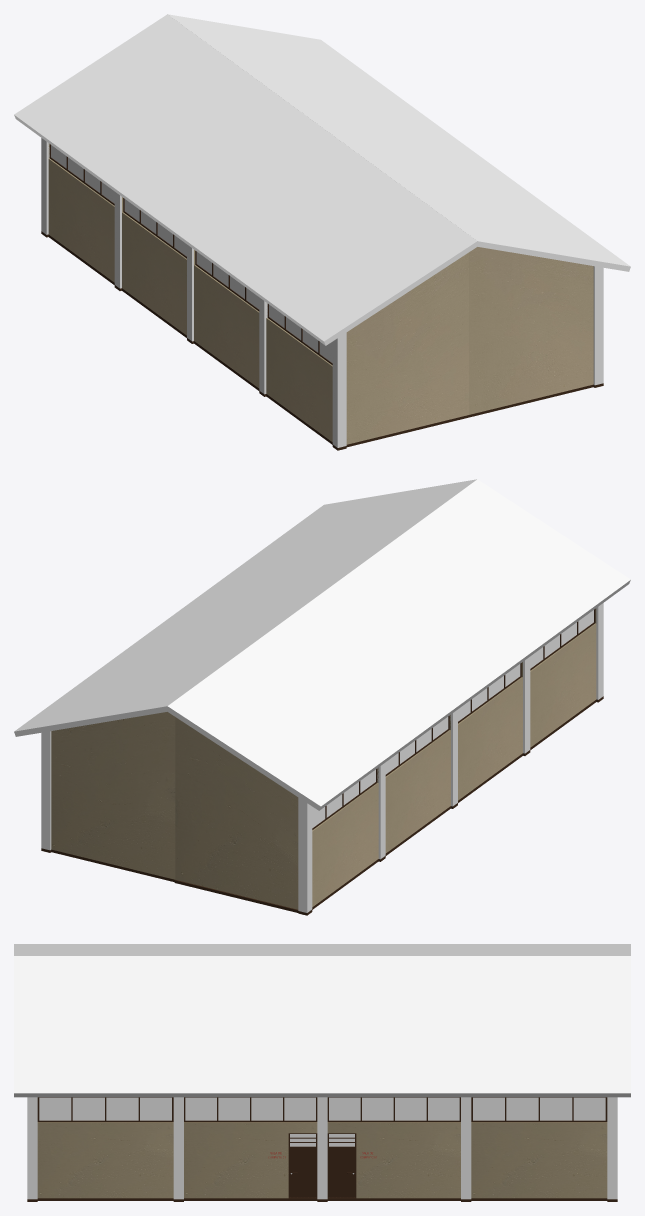
Rendered from sala1y2.fbx.
3 views of the same model, one above another, from view 1: azimuth 30°, elevation 25°; view 2: azimuth 150°, elevation 25°; view 3: azimuth 270°, elevation 25° (orthographic).
Visible parts, largest first — view 1: Pilar.022, Pilar.023, Pared.009, Pared.010, Pared.005, Pared.008, Pared.007, Pared.006, Pilar.004, Pilar.002, Pared.021, Pared.024 (+6 smaller); view 2: Pilar.022, Pilar.023, Pared.012, Pared.011, Pared.005, Pared.008, Pared.006, Pared.007, Pilar.005, Pilar.003, Pared.024, Pared.021 (+6 smaller); view 3: Pilar.023, Pared.003, Pared.004, Pared.001, Pared.002, Pilar.022, Pared.013, Pared.014, Pared.017, Pared.016, Pared.038, Pared.047 (+9 smaller).
Part boxes in pixels (bbox=[...]): Pilar.022: bbox=[14, 14, 478, 345]; Pilar.023: bbox=[168, 14, 630, 271]; Pared.009: bbox=[469, 247, 593, 414]; Pared.010: bbox=[346, 252, 469, 444]; Pared.005: bbox=[48, 143, 114, 282]; Pared.008: bbox=[266, 318, 332, 441]; Pared.007: bbox=[194, 250, 259, 388]; Pared.006: bbox=[122, 197, 186, 335]; Pilar.004: bbox=[332, 332, 346, 447]; Pilar.002: bbox=[593, 266, 603, 385]; Pared.021: bbox=[267, 304, 332, 364]; Pared.024: bbox=[49, 144, 114, 205]; Pilar.022: bbox=[166, 479, 630, 810]; Pilar.023: bbox=[14, 479, 476, 736]; Pared.012: bbox=[51, 712, 175, 879]; Pared.011: bbox=[175, 717, 298, 909]; Pared.005: bbox=[312, 767, 378, 906]; Pared.008: bbox=[530, 608, 596, 747]; Pared.006: bbox=[385, 715, 450, 853]; Pared.007: bbox=[458, 662, 522, 800]; Pilar.005: bbox=[298, 797, 312, 912]; Pilar.003: bbox=[41, 731, 51, 850]; Pared.024: bbox=[312, 769, 377, 829]; Pared.021: bbox=[530, 609, 595, 670]; Pilar.023: bbox=[14, 956, 630, 1097]; Pared.003: bbox=[37, 1122, 173, 1198]; Pared.004: bbox=[471, 1122, 607, 1198]; Pared.001: bbox=[327, 1122, 460, 1198]; Pared.002: bbox=[184, 1122, 317, 1198]; Pilar.022: bbox=[14, 944, 630, 955]; Pared.013: bbox=[37, 1097, 173, 1122]; Pared.014: bbox=[471, 1097, 607, 1122]; Pared.017: bbox=[184, 1097, 317, 1122]; Pared.016: bbox=[327, 1097, 460, 1122]; Pared.038: bbox=[290, 1148, 315, 1197]; Pared.047: bbox=[329, 1148, 354, 1197].
Bounding box in the file's own units: 1229 × 697 × 2150.
